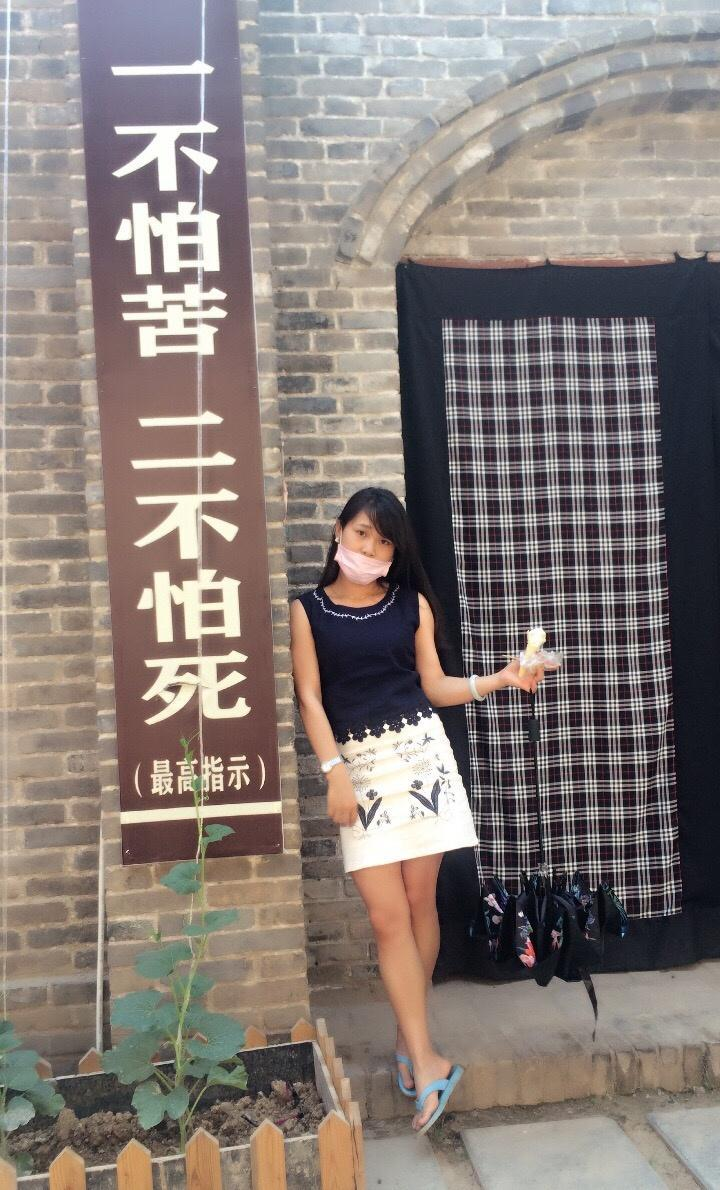WRONG: (338, 518, 401, 581)
